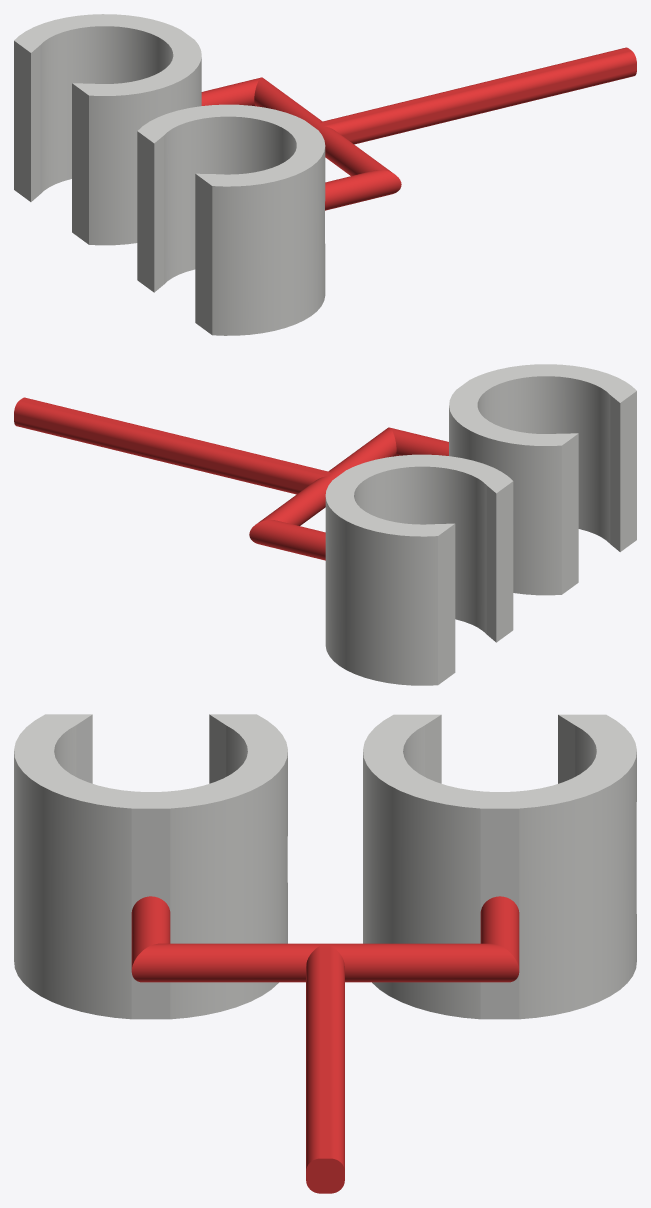
File: Redwhite Claws v1.fbx
The picture shows the model from 3 angles, top to bottom: view 1: azimuth 30°, elevation 25°; view 2: azimuth 150°, elevation 25°; view 3: azimuth 270°, elevation 25°; orthographic projection. The views are drawn at different scales.
Visible parts, largest first — view 1: Body2, Body1, Body3; view 2: Body1, Body2, Body3; view 3: Body1, Body2, Body3.
Part boxes in pixels (bbox=[...]): Body2: bbox=[137, 104, 325, 335]; Body1: bbox=[14, 14, 201, 245]; Body3: bbox=[201, 47, 636, 210]; Body1: bbox=[325, 454, 513, 685]; Body2: bbox=[449, 364, 636, 595]; Body3: bbox=[14, 397, 448, 560]; Body1: bbox=[363, 714, 636, 1019]; Body2: bbox=[14, 714, 287, 1019]; Body3: bbox=[131, 896, 519, 1193].
Size of the model in its own units: 1105 by 305 by 816.
